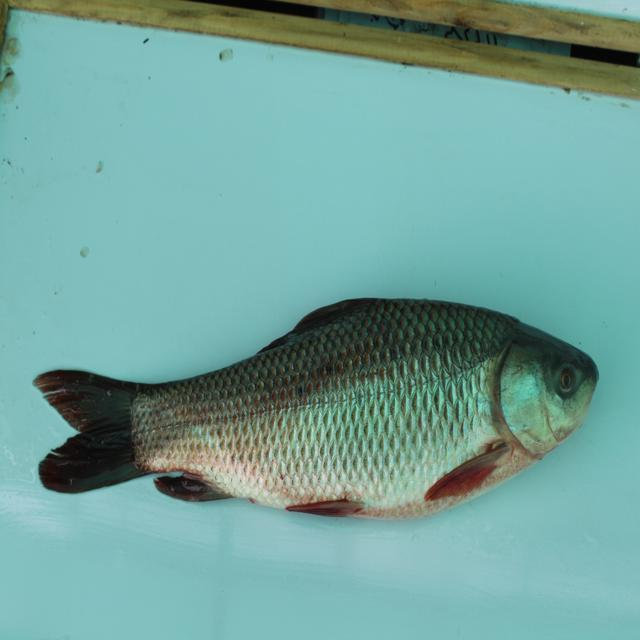Rohu: (28, 288, 600, 527)
